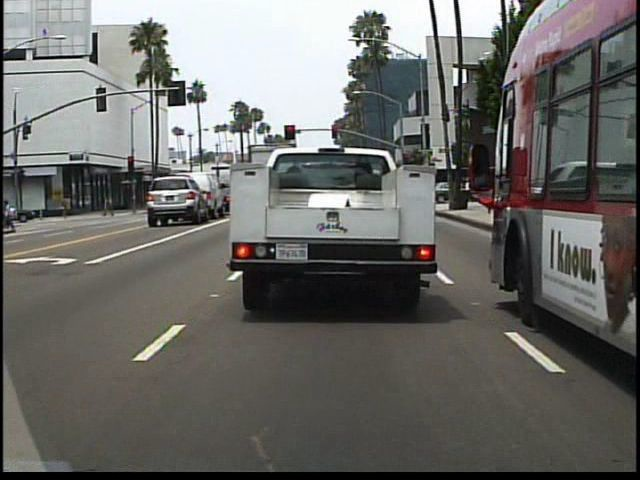person: (62, 192, 73, 219)
